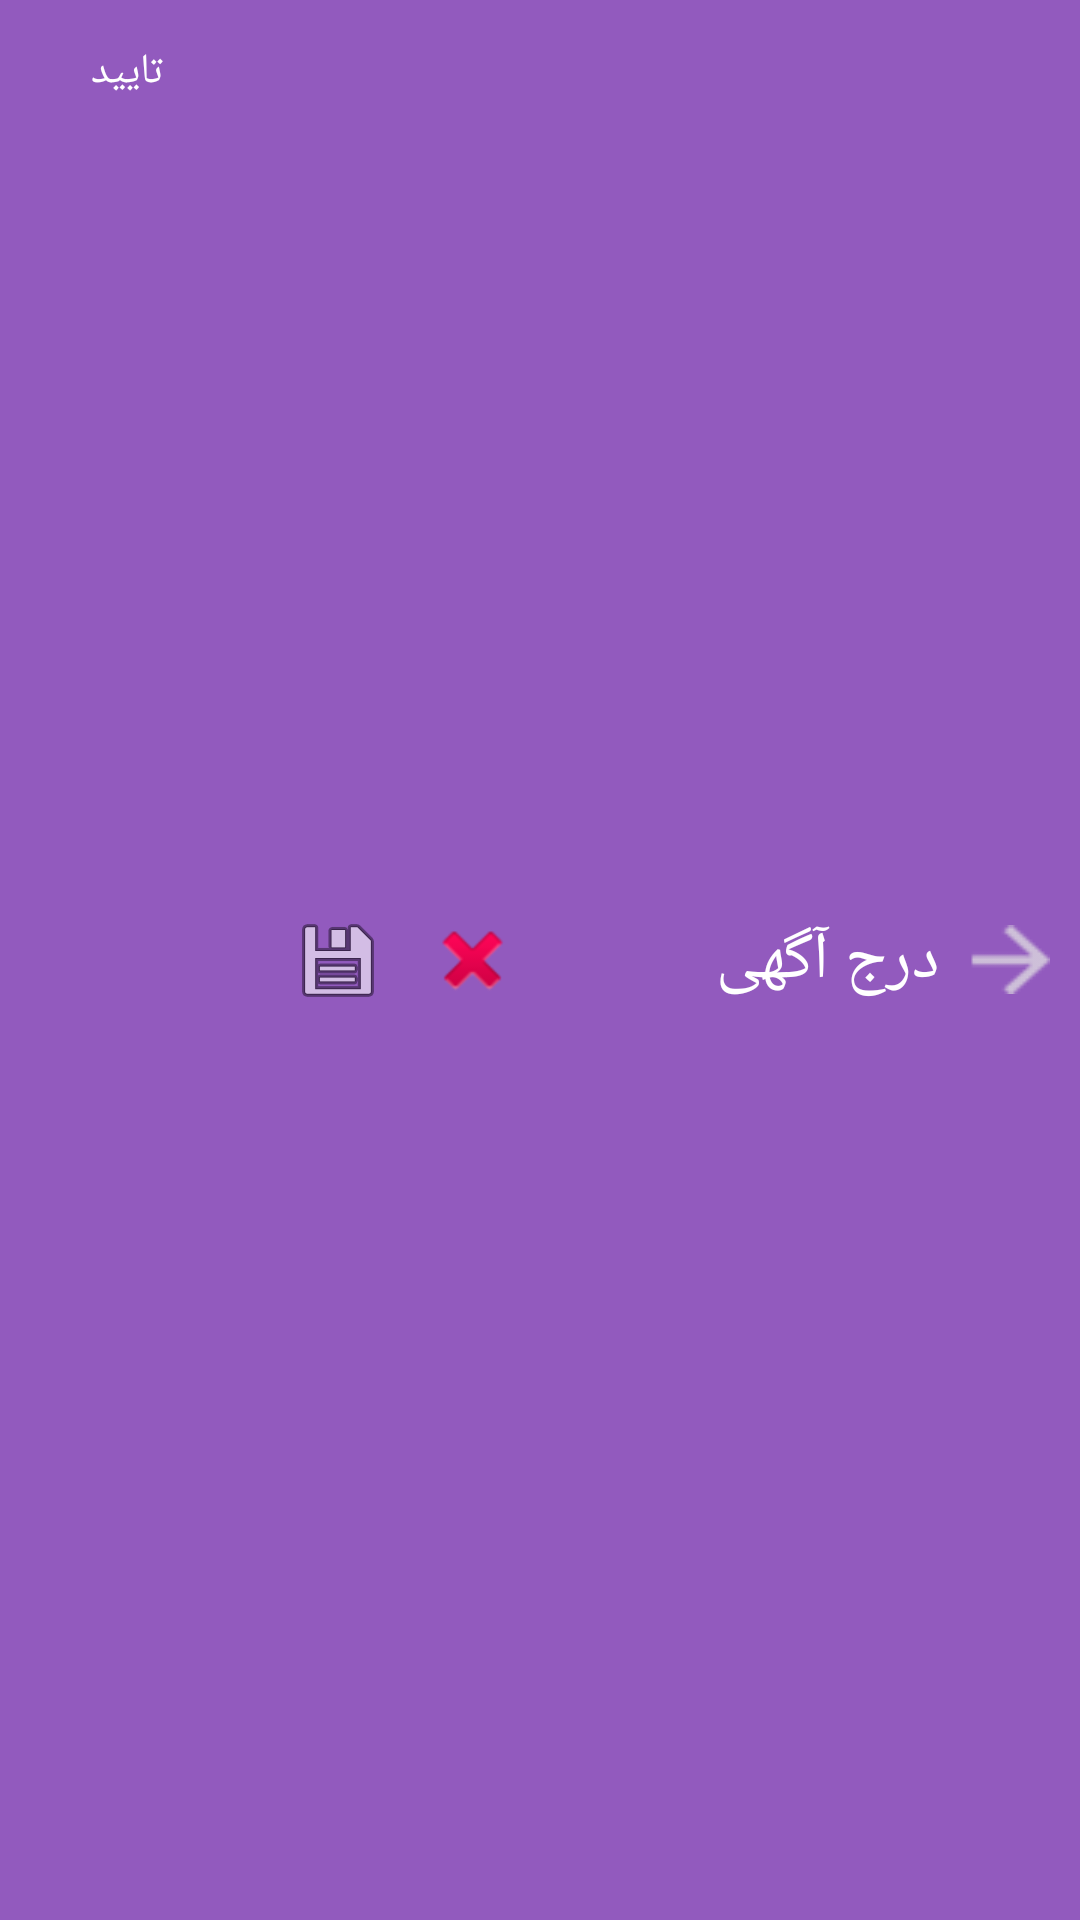

Icons on this 1080 × 1920 Android screen, each with the point to tap as [x,y]:
delete: [472,960]
save: [338,960]
